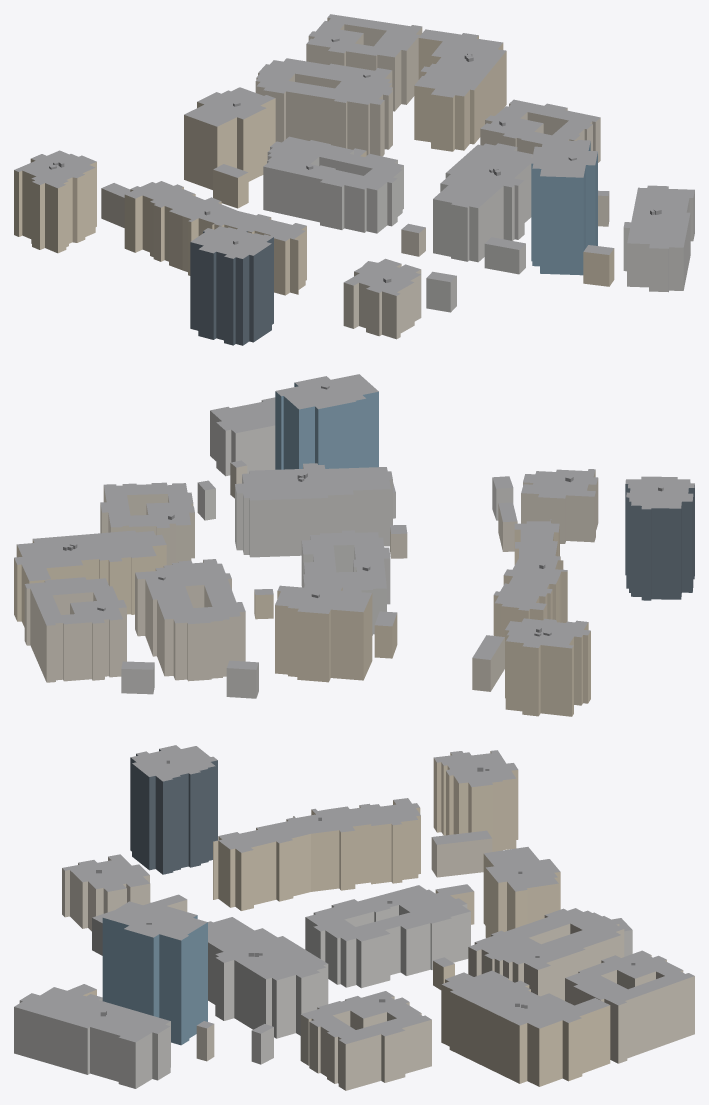
File: building_-1_4.glb
The picture shows the model from 3 angles, top to bottom: view 1: azimuth 30°, elevation 25°; view 2: azimuth 150°, elevation 25°; view 3: azimuth 270°, elevation 25°; orthographic projection. The views are drawn at different scales.
Visible parts, largest first — view 1: roof, sandstone, concrete_light, concrete_warm, glass_dark, glass_blue; view 2: roof, concrete_warm, sandstone, concrete_light, glass_blue, glass_dark; view 3: roof, sandstone, concrete_light, concrete_warm, glass_blue, glass_dark.
Part boxes in pixels (left/top/right/bottom): roof: left=14, top=14, right=694, bottom=295; sandstone: left=14, top=36, right=614, bottom=295; concrete_light: left=263, top=144, right=694, bottom=312; concrete_warm: left=101, top=17, right=609, bottom=339; glass_dark: left=190, top=231, right=273, bottom=345; glass_blue: left=531, top=141, right=597, bottom=275; roof: left=14, top=374, right=694, bottom=669; concrete_warm: left=24, top=463, right=598, bottom=691; sandstone: left=14, top=520, right=590, bottom=716; concrete_light: left=121, top=400, right=513, bottom=698; glass_blue: left=275, top=382, right=378, bottom=469; glass_dark: left=625, top=482, right=694, bottom=600; roof: left=14, top=745, right=694, bottom=1043; sandstone: left=83, top=751, right=610, bottom=1086; concrete_light: left=14, top=904, right=632, bottom=1088; concrete_warm: left=62, top=837, right=694, bottom=1090; glass_blue: left=102, top=915, right=207, bottom=1045; glass_dark: left=130, top=749, right=217, bottom=874.
Size of the model in its own units: 249 by 45.82 by 265.
